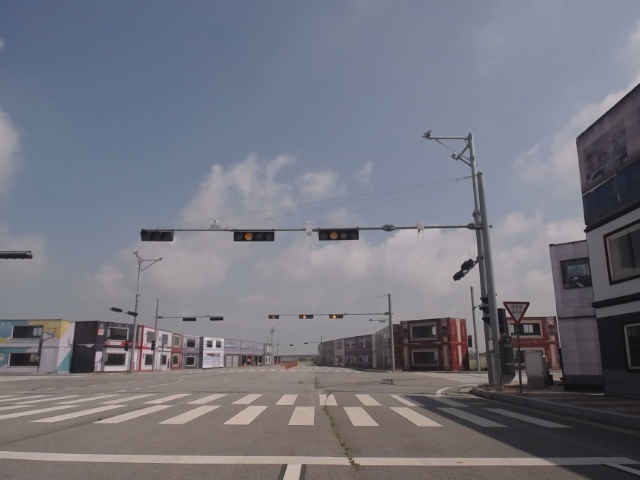orange_4: (317, 228, 360, 241), (233, 230, 276, 241)
